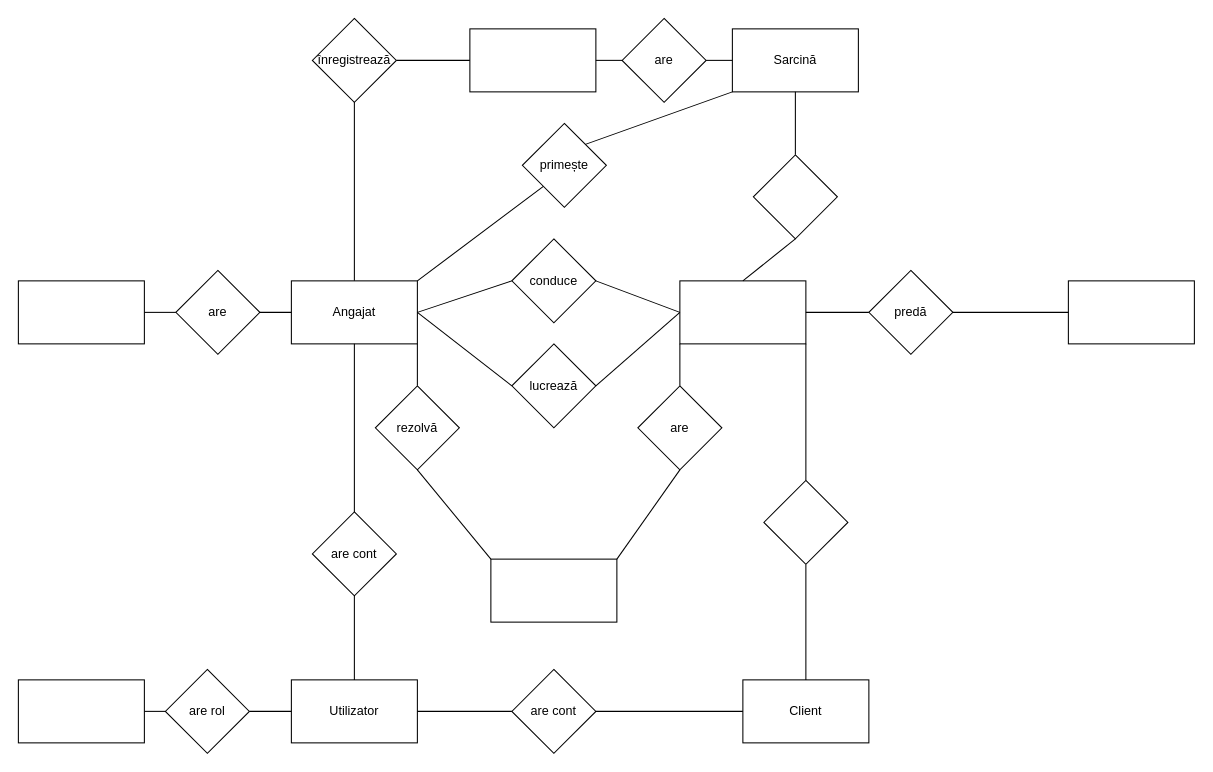
This 1213x772 diagram has some shape labels left out. Here are the shapes that lost their labels. From the top down, the box of each, then its label:
(469, 28, 596, 92): Pontaj
(752, 154, 837, 239): conține
(17, 280, 144, 344): Departament
(679, 280, 806, 344): Proiect
(1067, 280, 1194, 344): Livrabil
(763, 479, 848, 564): coomandă
(490, 558, 617, 622): Problemă tehnică
(17, 679, 144, 743): Rol
